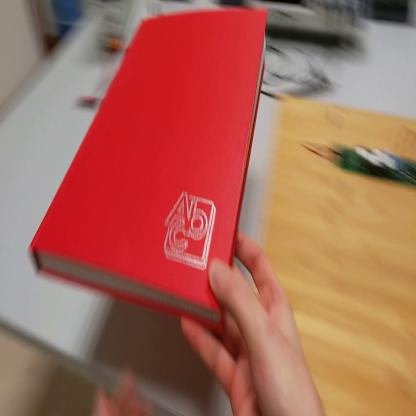hand: (184, 227, 322, 415), (92, 365, 155, 415)
high voltage board: (305, 132, 415, 185)
oscilloscope: (245, 1, 369, 44)
oscilloscope probe tip: (293, 68, 333, 97)
power supply: (97, 1, 140, 60)
register: (25, 1, 270, 351)
working area: (259, 90, 416, 412)
